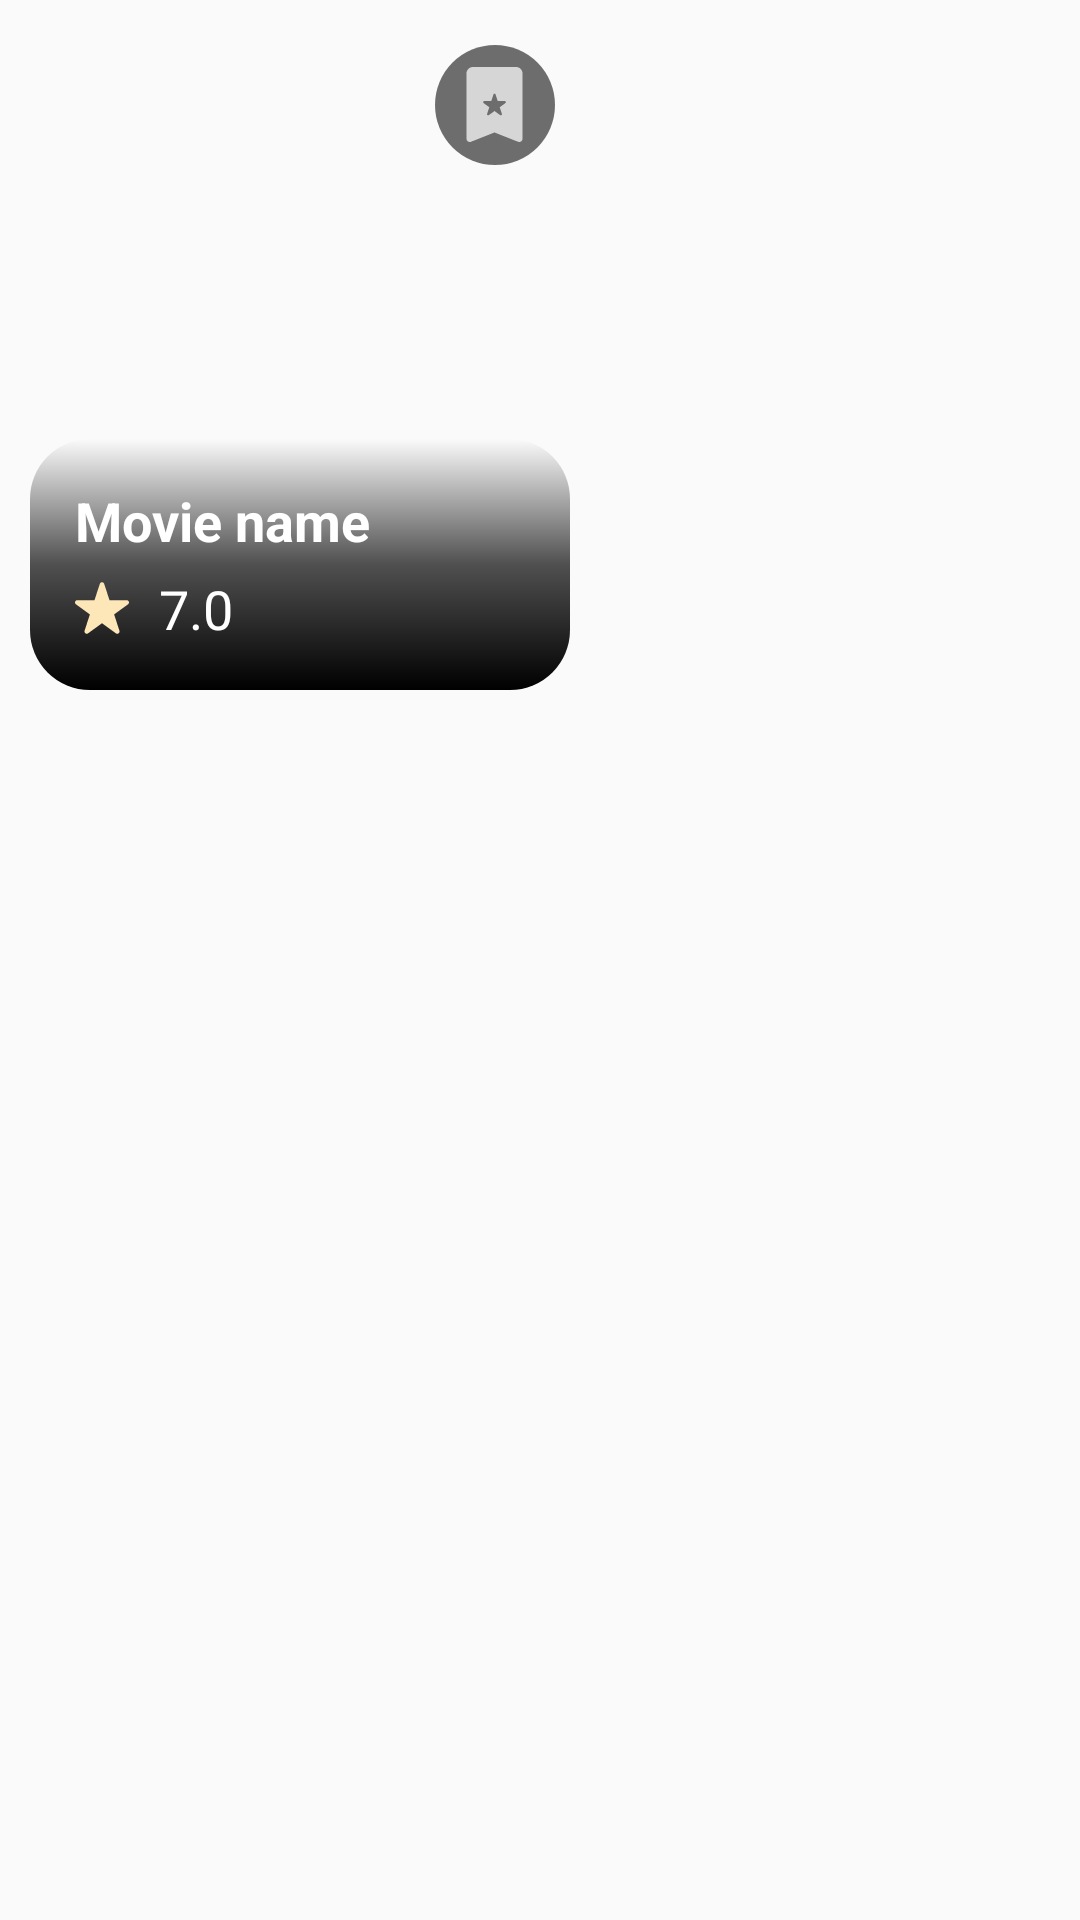

Named icons in this screenshot (1080 x 1920) and their centers, (x=x, y=y):
favorite bookmark: (x=494, y=104)
star: (x=102, y=608)
